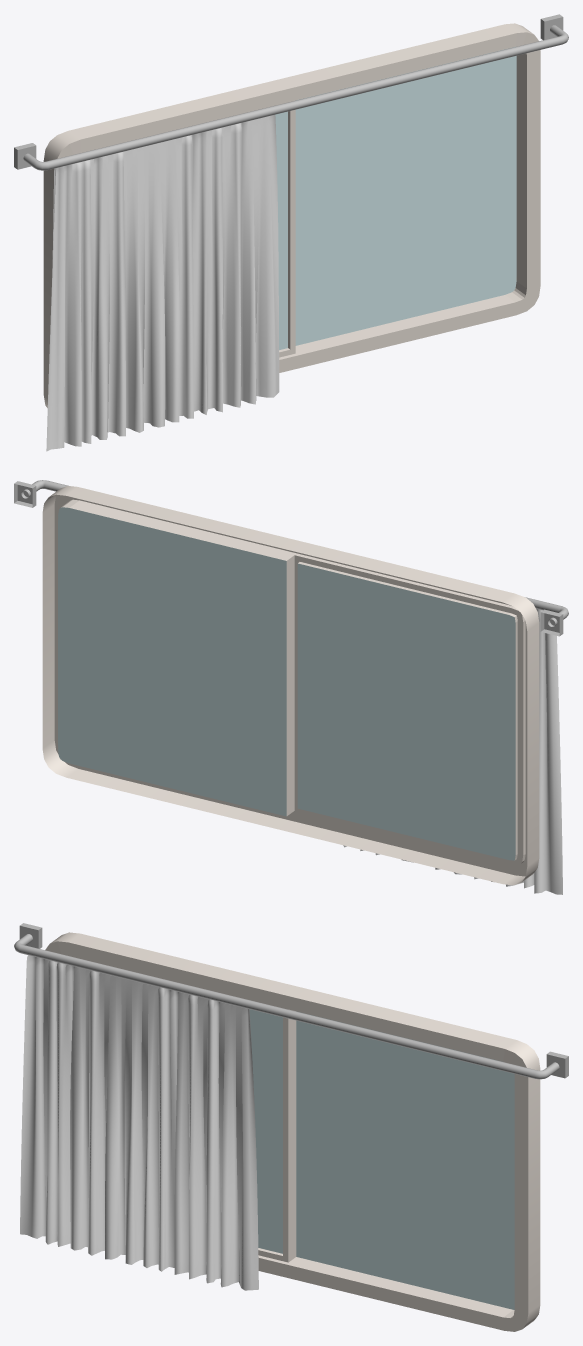
Rendered from 3D_Prop_Window.fbx.
3 renders of one model, top to bottom at view 1: azimuth 30°, elevation 25°; view 2: azimuth 150°, elevation 25°; view 3: azimuth 330°, elevation 25°, orthographic.
Visible parts, largest first — view 1: Window; view 2: Window; view 3: Window.
Boxes of the visible parts, x1=… form: Window: x1=14, y1=14, x2=568, y2=451; Window: x1=14, y1=480, x2=568, y2=894; Window: x1=14, y1=923, x2=568, y2=1331.
Size of the model in its own units: 726 by 377 by 53.89.
Materials: 2 (2 with a texture image).
